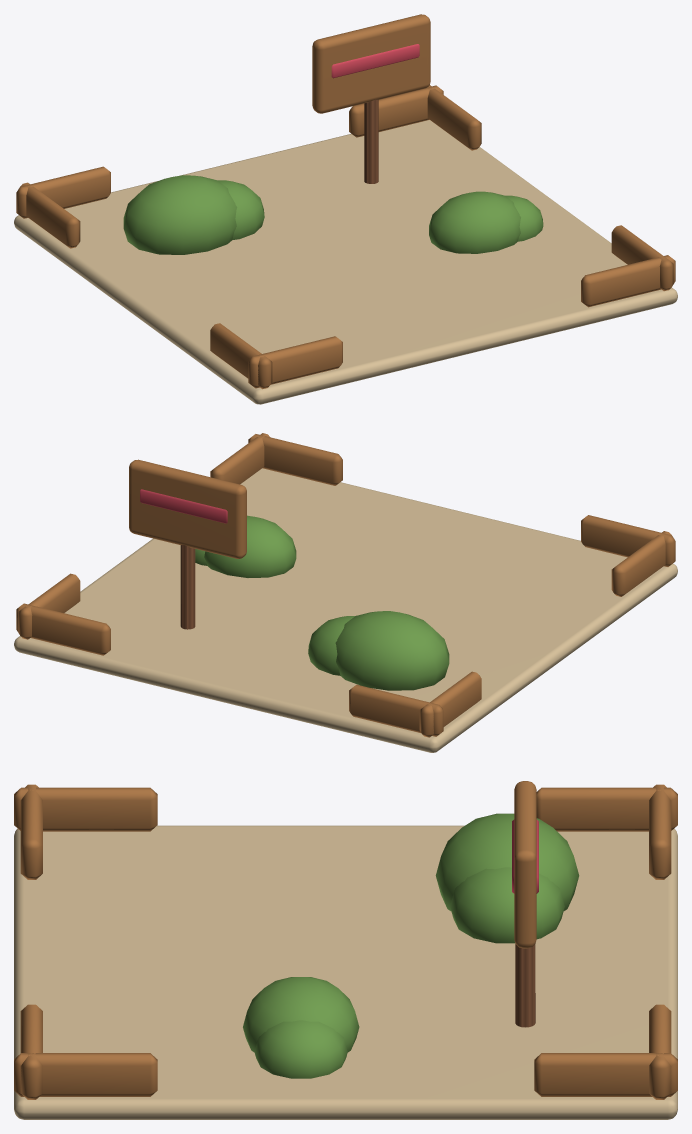
The model's file is lot.glb.
3 views of the same model, one above another, from view 1: azimuth 30°, elevation 25°; view 2: azimuth 150°, elevation 25°; view 3: azimuth 270°, elevation 25° (orthographic). The views are drawn at different scales.
Visible parts, largest first — view 1: Cube; view 2: Cube; view 3: Cube.
Boxes of the visible parts, <box> form: Cube: <box>14,14,677,404</box>; Cube: <box>14,433,677,752</box>; Cube: <box>14,781,677,1119</box>.
Size of the model in its own units: 0.74 by 0.296 by 0.74.
